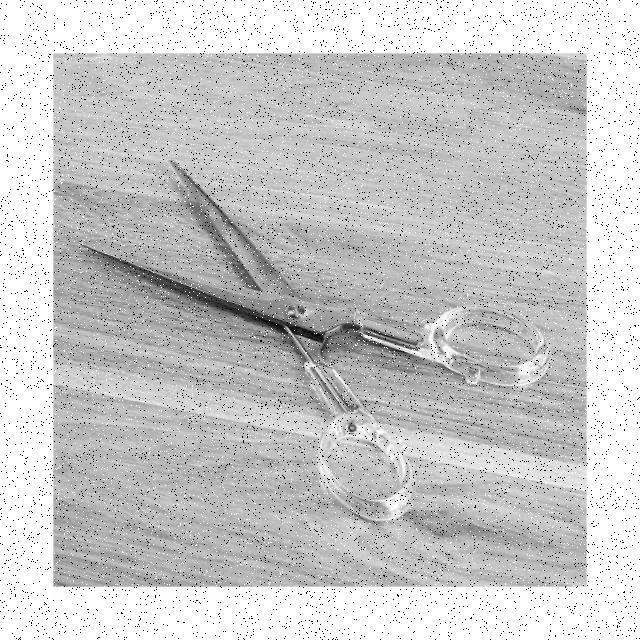scissors: (80, 156, 554, 523)
